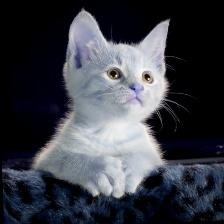kedo: (37, 8, 167, 194)
